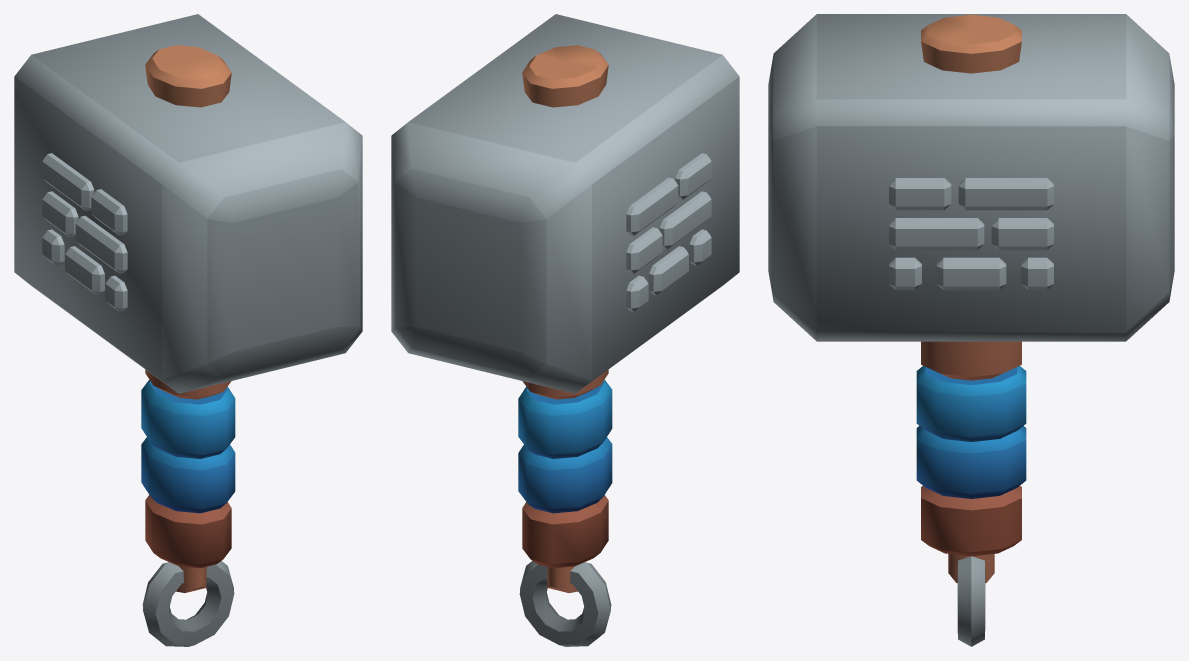
The model's file is paladin_hammer.fbx.
The picture shows the model from 3 angles, left to right: view 1: azimuth 30°, elevation 25°; view 2: azimuth 150°, elevation 25°; view 3: azimuth 270°, elevation 25°; orthographic projection. The views are drawn at different scales.
Parts seen in each view (by area): view 1: paladin_hammer; view 2: paladin_hammer; view 3: paladin_hammer.
Part boxes in pixels (bbox=[...]): paladin_hammer: bbox=[14, 14, 362, 646]; paladin_hammer: bbox=[391, 14, 739, 646]; paladin_hammer: bbox=[768, 14, 1174, 646].
Bounding box in the file's own units: 0.4334 × 1.1 × 0.6612.
